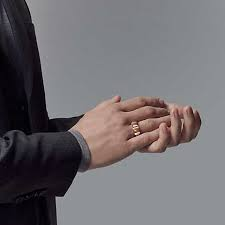hand: (66, 71, 206, 173)
